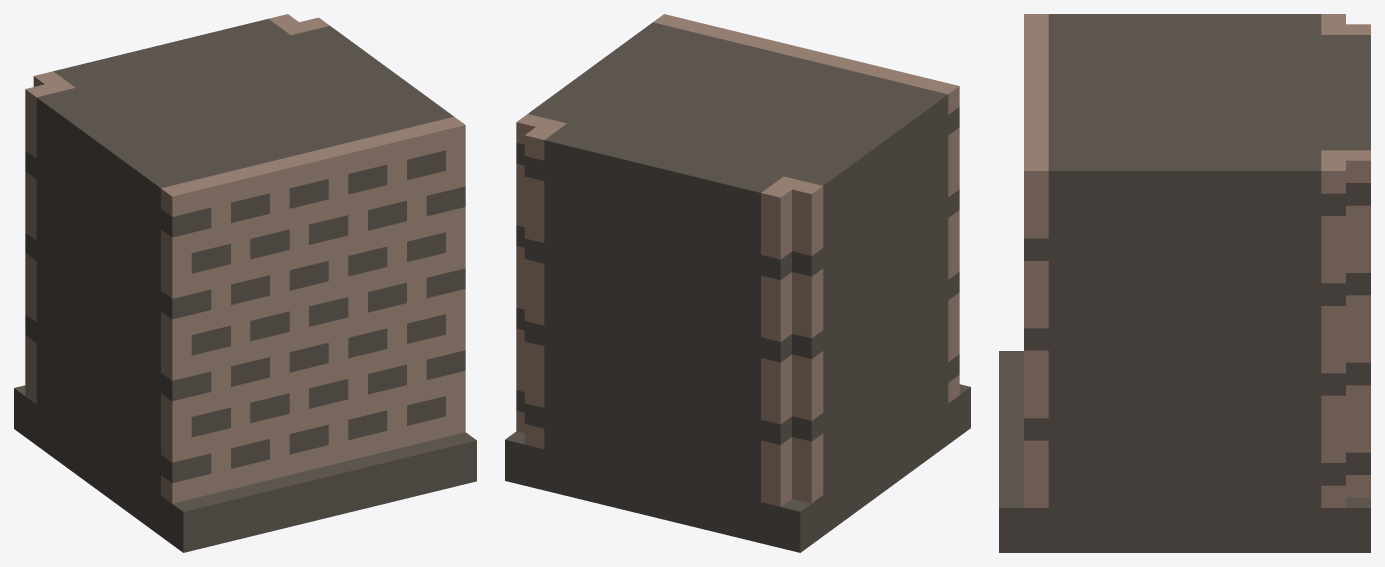
File: dungeon_a_b_inner_wall_segment_b_flipped.obj
3 renders of one model, left to right at view 1: azimuth 30°, elevation 25°; view 2: azimuth 150°, elevation 25°; view 3: azimuth 270°, elevation 25°, orthographic. The views are drawn at different scales.
Size of the model in its own units: 1.5 by 1.7 by 1.5.
Materials: 1 (1 with a texture image).
